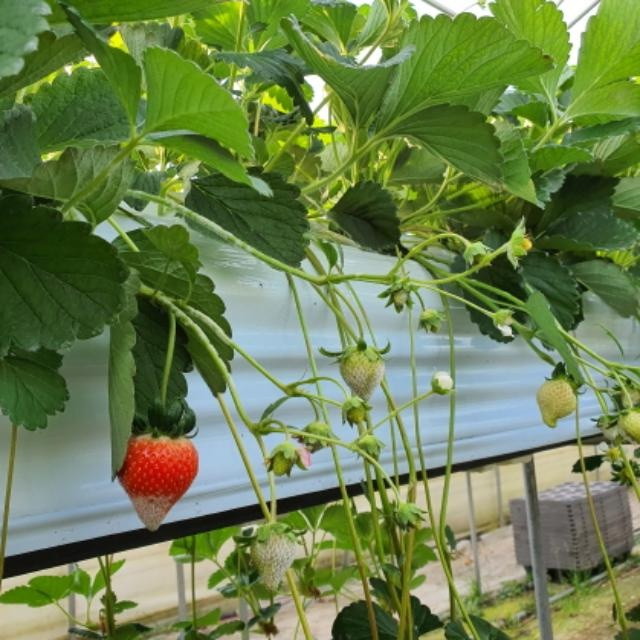Powdery Mildew Fruit: (115, 434, 199, 534), (250, 524, 298, 593), (339, 341, 385, 407)
